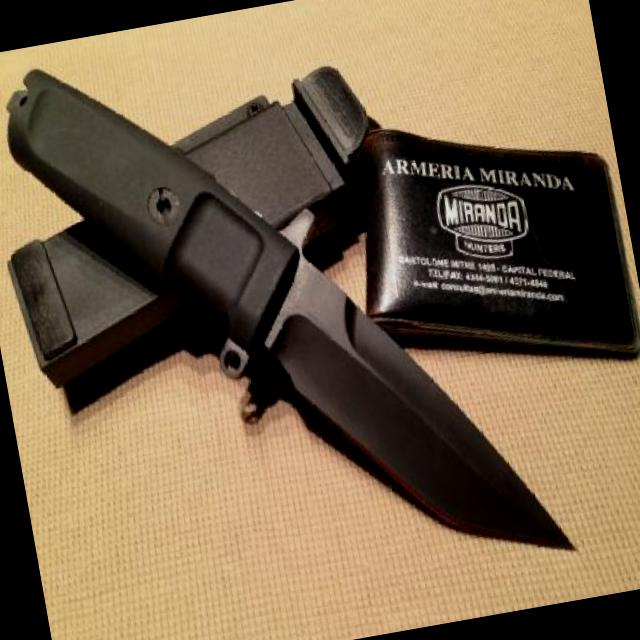knife: (240, 215, 586, 606)
